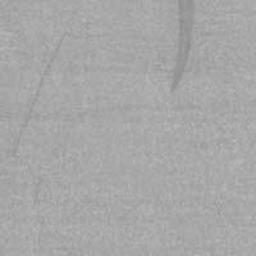Inclusion: (13, 33, 66, 156), (171, 0, 194, 91)
